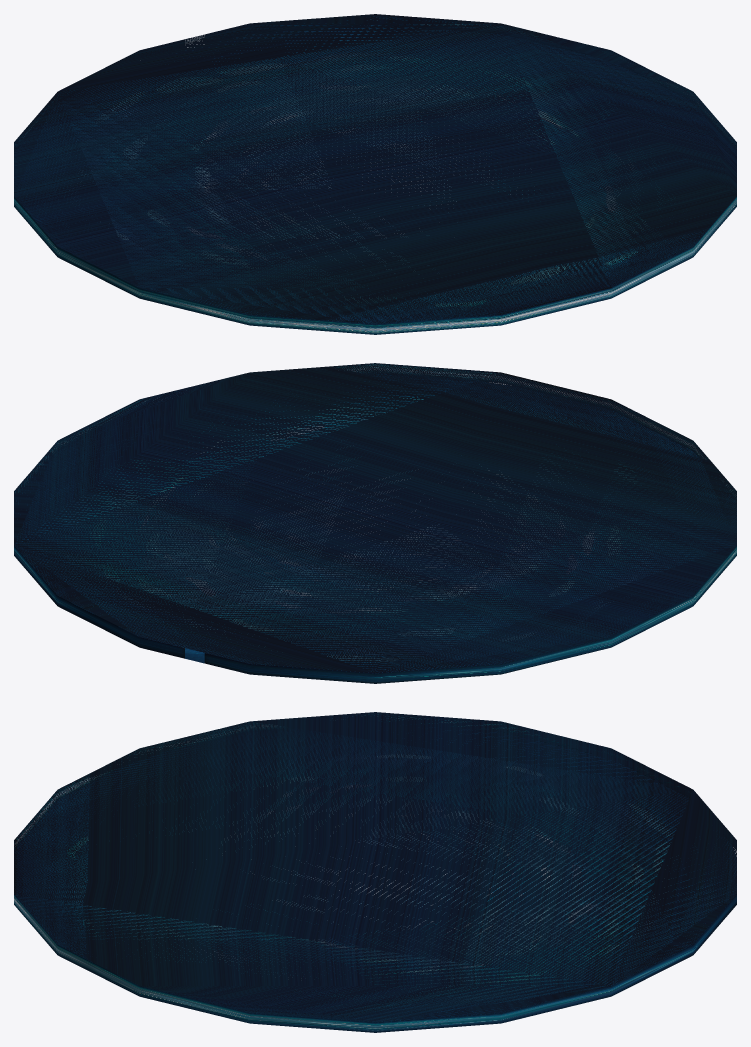
Rendered from Top with texture.FBX.
3 views of the same model, one above another, from view 1: azimuth 30°, elevation 25°; view 2: azimuth 150°, elevation 25°; view 3: azimuth 270°, elevation 25° (orthographic).
Parts seen in each view (by area): view 1: Cylinder002; view 2: Cylinder002; view 3: Cylinder002.
Boxes of the visible parts, x1,y1,x2,y2 form: Cylinder002: [14, 14, 736, 334]; Cylinder002: [14, 363, 736, 683]; Cylinder002: [14, 712, 736, 1032].
Size of the model in its own units: 48.17 by 47.44 by 0.769.
Materials: 1 (1 with a texture image).
